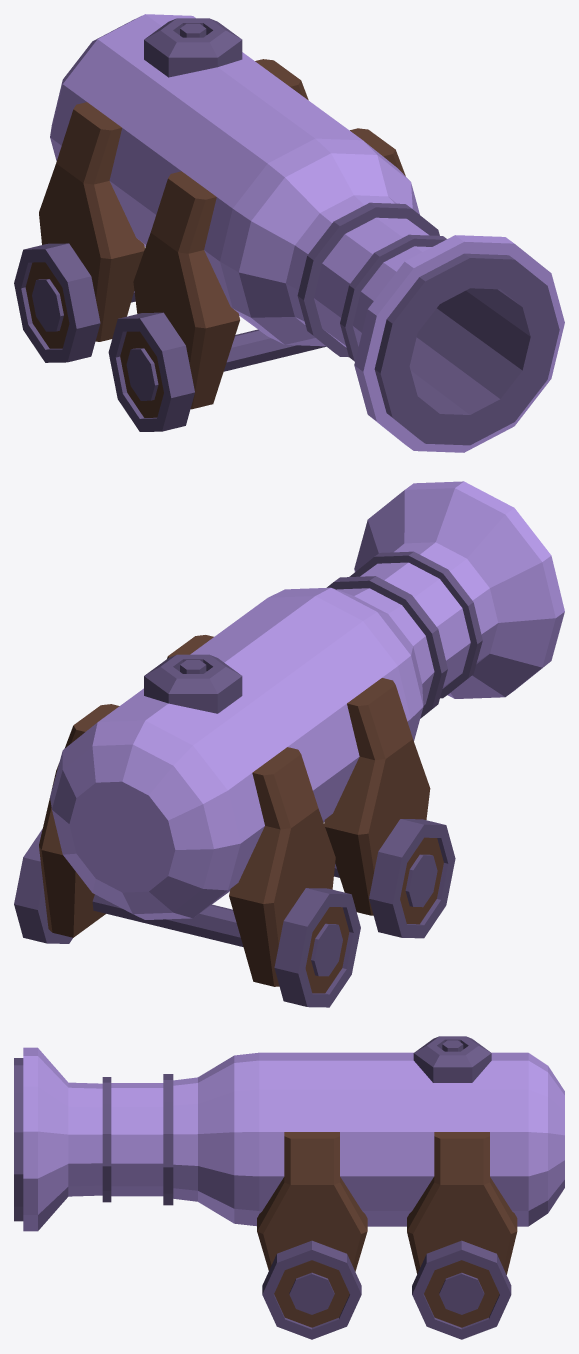
The model's file is Canon.fbx.
3 renders of one model, top to bottom at view 1: azimuth 30°, elevation 25°; view 2: azimuth 150°, elevation 25°; view 3: azimuth 270°, elevation 25°, orthographic. The views are drawn at different scales.
Visible parts, largest first — view 1: Canon; view 2: Canon; view 3: Canon.
Part boxes in pixels (bbox=[...]): Canon: bbox=[14, 14, 564, 452]; Canon: bbox=[14, 481, 564, 1007]; Canon: bbox=[14, 1036, 564, 1339].
Size of the model in its own units: 0.9209 by 0.9405 by 1.95.
